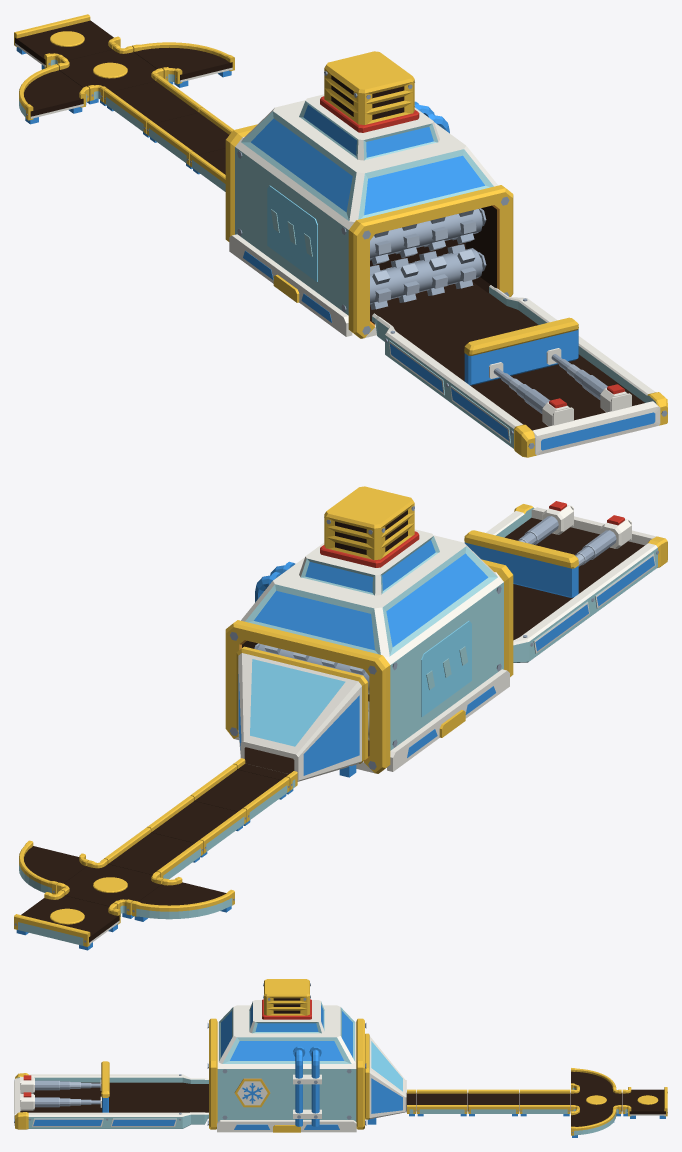
The model's file is SnowProcessor_FullConveyor.glb.
3 views of the same model, one above another, from view 1: azimuth 30°, elevation 25°; view 2: azimuth 150°, elevation 25°; view 3: azimuth 270°, elevation 25° (orthographic). The views are drawn at different scales.
Parts seen in each view (by area): view 1: ProcessorTower, FeederFrame, Pusher, Front_Lower, Tee, Cross, Front_Upper, Run03, TurnLeft, Run02, TurnRight, Run01; view 2: ProcessorTower, TowerAdapter, FeederFrame, Pusher, Tee, Cross, Run02, Run01, Run03, TurnRight, TurnLeft, Rear_Upper; view 3: ProcessorTower, FeederFrame, TowerAdapter, Run03, Run01, Run02, Tee, Cross, TurnLeft, TurnRight, Pusher.
Part boxes in pixels (bbox=[...]): ProcessorTower: bbox=[225, 51, 513, 338]; FeederFrame: bbox=[372, 285, 667, 457]; Pusher: bbox=[464, 317, 578, 385]; Front_Lower: bbox=[370, 244, 482, 309]; Tee: bbox=[14, 14, 120, 69]; Cross: bbox=[57, 44, 163, 105]; Front_Upper: bbox=[370, 209, 482, 264]; Run03: bbox=[103, 76, 202, 137]; TurnLeft: bbox=[132, 42, 234, 87]; Run02: bbox=[146, 107, 233, 169]; TurnRight: bbox=[19, 64, 89, 124]; Run01: bbox=[189, 148, 225, 191]; ProcessorTower: bbox=[225, 486, 513, 773]; TowerAdapter: bbox=[233, 646, 368, 794]; FeederFrame: bbox=[486, 501, 667, 662]; Pusher: bbox=[464, 530, 578, 597]; Tee: bbox=[14, 890, 120, 950]; Cross: bbox=[57, 859, 163, 918]; Run02: bbox=[147, 795, 246, 857]; Run01: bbox=[190, 764, 289, 825]; Run03: bbox=[104, 827, 203, 879]; TurnRight: bbox=[132, 877, 234, 921]; TurnLeft: bbox=[19, 840, 88, 894]; Rear_Upper: bbox=[257, 644, 369, 694]; ProcessorTower: bbox=[207, 979, 366, 1132]; FeederFrame: bbox=[14, 1073, 208, 1129]; TowerAdapter: bbox=[365, 1033, 416, 1124]; Run03: bbox=[519, 1089, 570, 1116]; Run01: bbox=[416, 1089, 467, 1116]; Run02: bbox=[468, 1089, 518, 1116]; Tee: bbox=[622, 1087, 667, 1118]; Cross: bbox=[571, 1087, 621, 1116]; TurnLeft: bbox=[571, 1108, 616, 1137]; TurnRight: bbox=[571, 1068, 615, 1089]; Pusher: bbox=[91, 1061, 109, 1112].
Size of the model in its own units: 3.12 by 2.93 by 14.24.
3 materials, 3 textured.
